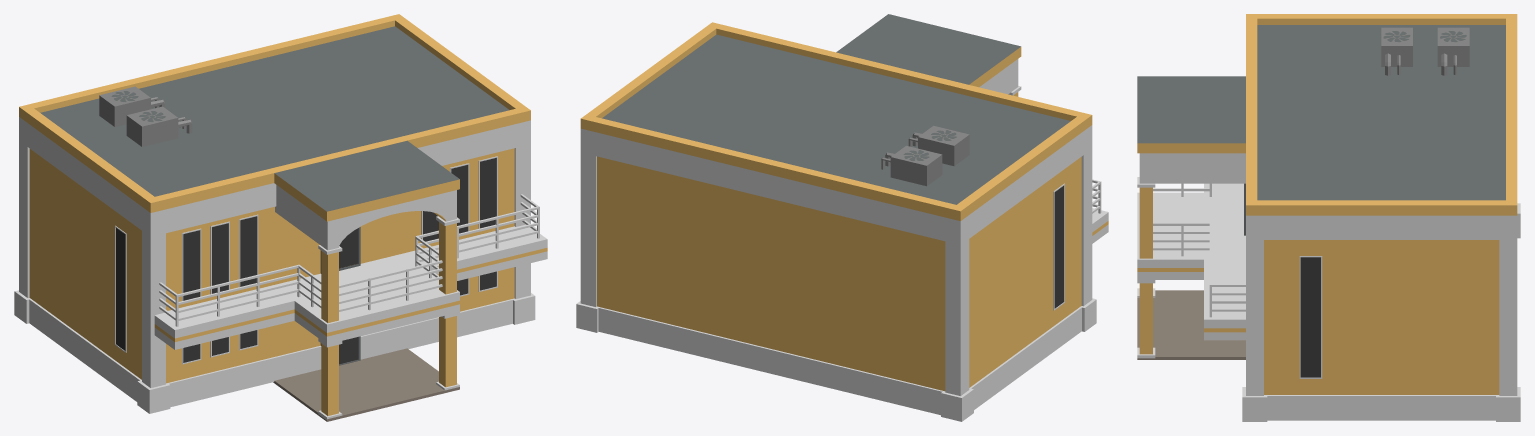
File: building-house-03-color02.glb
3 views of the same model, side by side, from view 1: azimuth 30°, elevation 25°; view 2: azimuth 150°, elevation 25°; view 3: azimuth 270°, elevation 25° (orthographic). The views are drawn at different scales.
Parts seen in each view (by area): view 1: model; view 2: model; view 3: model.
Part boxes in pixels (x1,y1,x2,y2): model: [14, 14, 547, 421]; model: [576, 14, 1108, 421]; model: [1137, 14, 1520, 421].
Size of the model in its own units: 17.26 by 9.61 by 14.41.
Materials: 1 (1 with a texture image).
